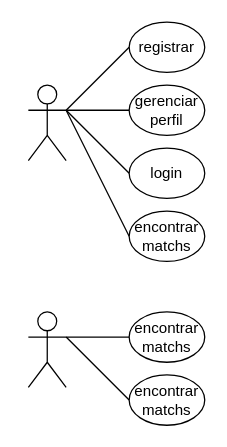
Image size: 227x447. Some labels were removed from this diagram. The box of each missing label's shape, as (x1, y1, x2, y2) in pixels:
admin: (27, 311, 66, 387)
Usuário: (27, 84, 66, 161)
